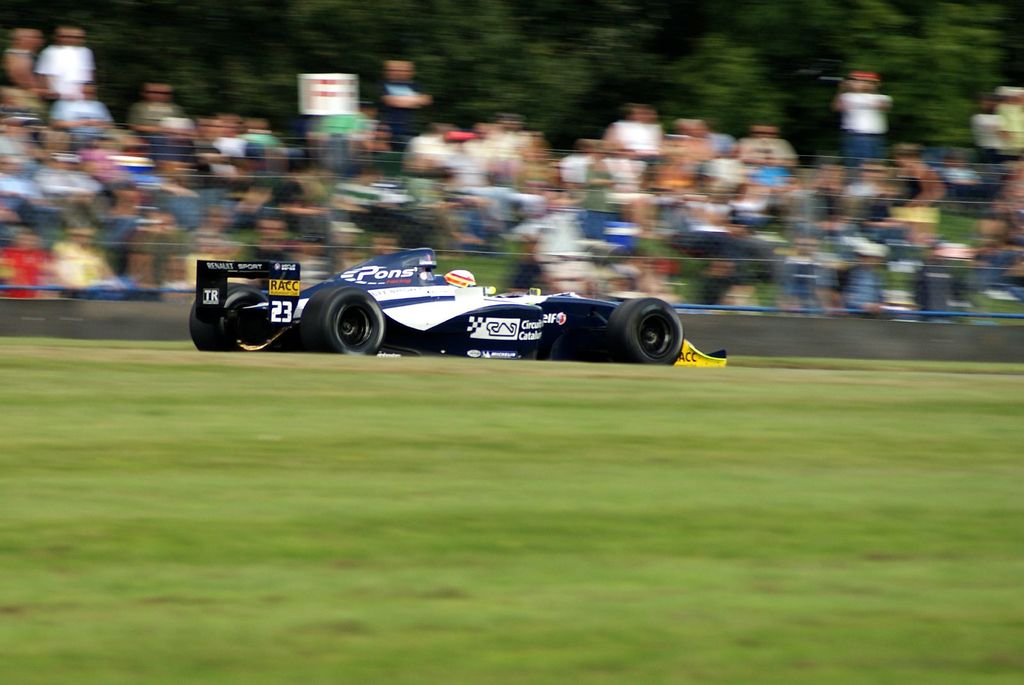Car: (188, 248, 725, 365)
